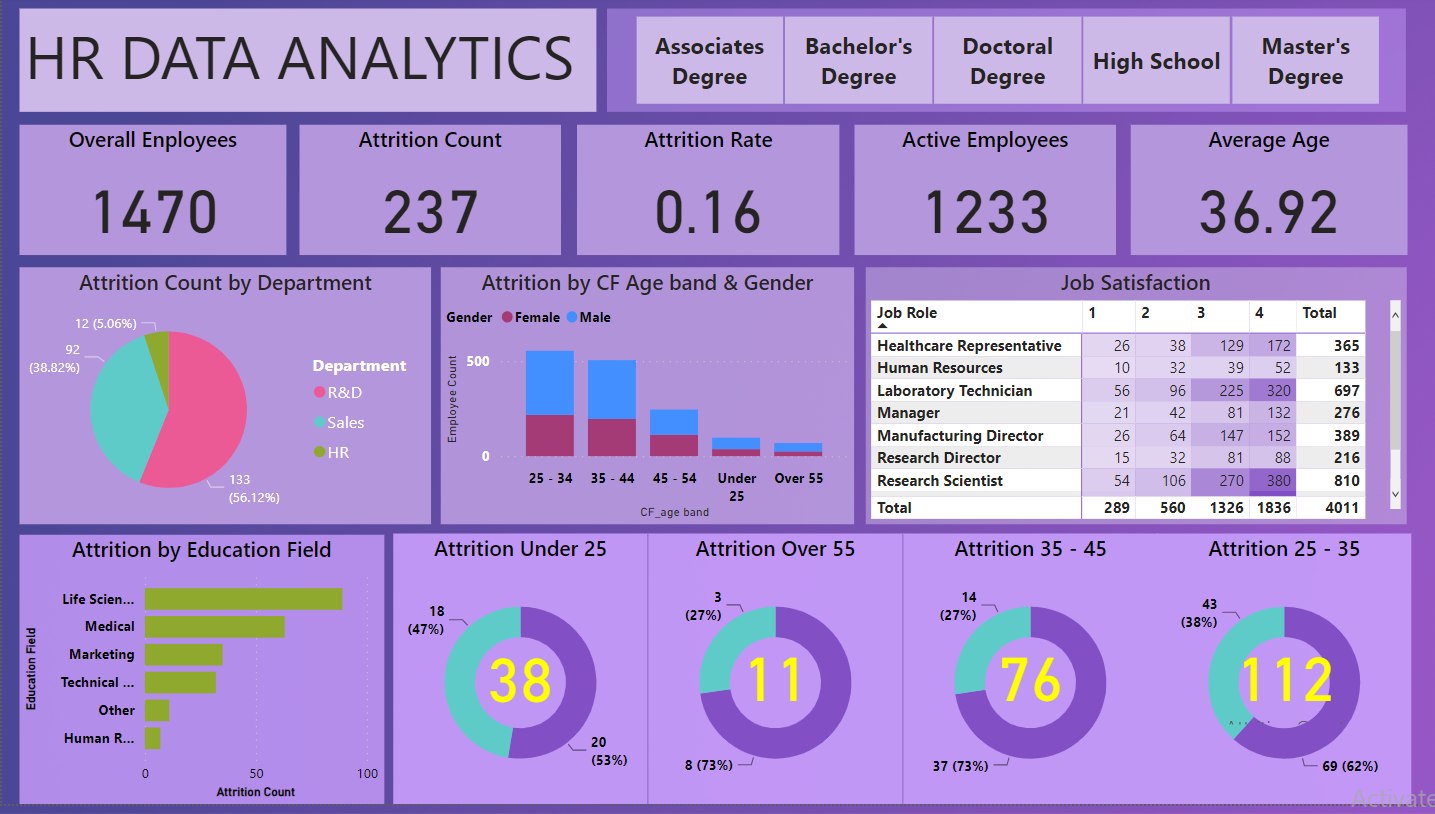

Layout of this report page (visuals, bound fields, positions):
{"tool":"powerbi","page":{"name":"Page 1","canvas":[1280,720],"ordinal":0},"visuals":[{"type":"card","title":"Overall Enployees","fields":{"Values":["Sum(HR Data xlsx - HR data.Employee Count)"]},"box":[15.7,114.6,237.6,115.8],"z":0},{"type":"card","title":"Attrition Count","fields":{"Values":["Sum(HR Data xlsx - HR data.Attrition Count)"]},"box":[265.3,114.6,232.8,115.8],"z":1000},{"type":"card","title":"Attrition Rate","fields":{"Values":["HR Data xlsx - HR data.Attrition Rate"]},"box":[511.4,114.6,234,115.8],"z":2000},{"type":"card","title":"Active Employees","fields":{"Values":["HR Data xlsx - HR data.Active Employees"]},"box":[758.6,114.6,232.8,115.8],"z":3000},{"type":"card","title":"Average Age","fields":{"Values":["Avg(HR Data xlsx - HR data.Age)"]},"box":[1004.6,114.6,246,115.8],"z":4000},{"type":"pieChart","fields":{"Y":["Sum(HR Data xlsx - HR data.Attrition Count)"],"Category":["HR Data xlsx - HR data.Department"]},"box":[15.7,241.2,366.6,229.1],"z":5000},{"type":"columnChart","title":"Attrition by CF Age band & Gender","fields":{"Category":["HR Data xlsx - HR data.CF_age band"],"Y":["Sum(HR Data xlsx - HR data.Employee Count)"],"Series":["HR Data xlsx - HR data.Gender"]},"box":[390.8,241.2,367.8,229.1],"z":6000},{"type":"pivotTable","title":"Job Satisfaction","fields":{"Rows":["HR Data xlsx - HR data.Job Role"],"Values":["Sum(HR Data xlsx - HR data.Job Satisfaction)"],"Columns":["HR Data xlsx - HR data.Job Satisfaction"]},"box":[769.4,241.2,481.2,229.1],"z":7000},{"type":"barChart","title":"Attrition by Education Field","fields":{"Category":["HR Data xlsx - HR data.Education Field"],"Y":["Sum(HR Data xlsx - HR data.Attrition Count)"]},"box":[15.7,480,324.4,240],"z":8000},{"type":"donutChart","title":"Attrition Under 25","fields":{"Y":["Sum(HR Data xlsx - HR data.Attrition Count)"],"Category":["HR Data xlsx - HR data.Gender"],"Series":["HR Data xlsx - HR data.CF_age band"]},"box":[348.5,478.8,226.7,241.2],"z":9000},{"type":"donutChart","title":"Attrition Over 55","fields":{"Y":["Sum(HR Data xlsx - HR data.Attrition Count)"],"Category":["HR Data xlsx - HR data.Gender"],"Series":["HR Data xlsx - HR data.CF_age band"]},"box":[575.3,478.8,226.7,241.2],"z":10000},{"type":"donutChart","title":"Attrition 35 - 45","fields":{"Y":["Sum(HR Data xlsx - HR data.Attrition Count)"],"Category":["HR Data xlsx - HR data.Gender"],"Series":["HR Data xlsx - HR data.CF_age band"]},"box":[802,478.8,226.7,241.2],"z":11000},{"type":"donutChart","title":"Attrition 25 - 35","fields":{"Y":["Sum(HR Data xlsx - HR data.Attrition Count)"],"Category":["HR Data xlsx - HR data.Gender"],"Series":["HR Data xlsx - HR data.CF_age band"]},"box":[1028.7,478.8,226.7,241.2],"z":12000},{"type":"card","fields":{"Values":["Sum(HR Data xlsx - HR data.Attrition Count)"]},"box":[421.6,578.2,79.7,68.7],"z":13000},{"type":"card","fields":{"Values":["Sum(HR Data xlsx - HR data.Attrition Count)"]},"box":[648.8,577.7,79.6,68.7],"z":14000},{"type":"card","fields":{"Values":["Sum(HR Data xlsx - HR data.Attrition Count)"]},"box":[875.6,577.7,79.6,68.7],"z":15000},{"type":"card","fields":{"Values":["Sum(HR Data xlsx - HR data.Attrition Count)"]},"box":[1083.6,571.3,116.7,82.4],"z":16000},{"type":"textbox","box":[15.1,11,513.6,92],"z":17000},{"type":"slicer","fields":{"Values":["HR Data xlsx - HR data.Education"]},"box":[538.4,11,711.4,92],"z":18000}]}

Visuals, with their boxes in screenshot pixels (x1, y1, x2, y2), scaled from the page's 1280x720 canvas onto the 1435x814 screenshot:
"Overall Enployees" card: [left=18, top=130, right=284, bottom=260]
"Attrition Count" card: [left=297, top=130, right=558, bottom=260]
"Attrition Rate" card: [left=573, top=130, right=836, bottom=260]
"Active Employees" card: [left=850, top=130, right=1111, bottom=260]
"Average Age" card: [left=1126, top=130, right=1402, bottom=260]
pieChart - Sum(HR Data xlsx - HR data.Attrition Count) x HR Data xlsx - HR data.Department: [left=18, top=273, right=429, bottom=532]
"Attrition by CF Age band & Gender" columnChart: [left=438, top=273, right=850, bottom=532]
"Job Satisfaction" pivotTable: [left=863, top=273, right=1402, bottom=532]
"Attrition by Education Field" barChart: [left=18, top=543, right=381, bottom=813]
"Attrition Under 25" donutChart: [left=391, top=541, right=645, bottom=813]
"Attrition Over 55" donutChart: [left=645, top=541, right=899, bottom=813]
"Attrition 35 - 45" donutChart: [left=899, top=541, right=1153, bottom=813]
"Attrition 25 - 35" donutChart: [left=1153, top=541, right=1407, bottom=813]
card - Sum(HR Data xlsx - HR data.Attrition Count): [left=473, top=654, right=562, bottom=731]
card - Sum(HR Data xlsx - HR data.Attrition Count): [left=727, top=653, right=817, bottom=731]
card - Sum(HR Data xlsx - HR data.Attrition Count): [left=982, top=653, right=1071, bottom=731]
card - Sum(HR Data xlsx - HR data.Attrition Count): [left=1215, top=646, right=1346, bottom=739]
textbox: [left=17, top=12, right=593, bottom=116]
slicer - HR Data xlsx - HR data.Education: [left=604, top=12, right=1401, bottom=116]
